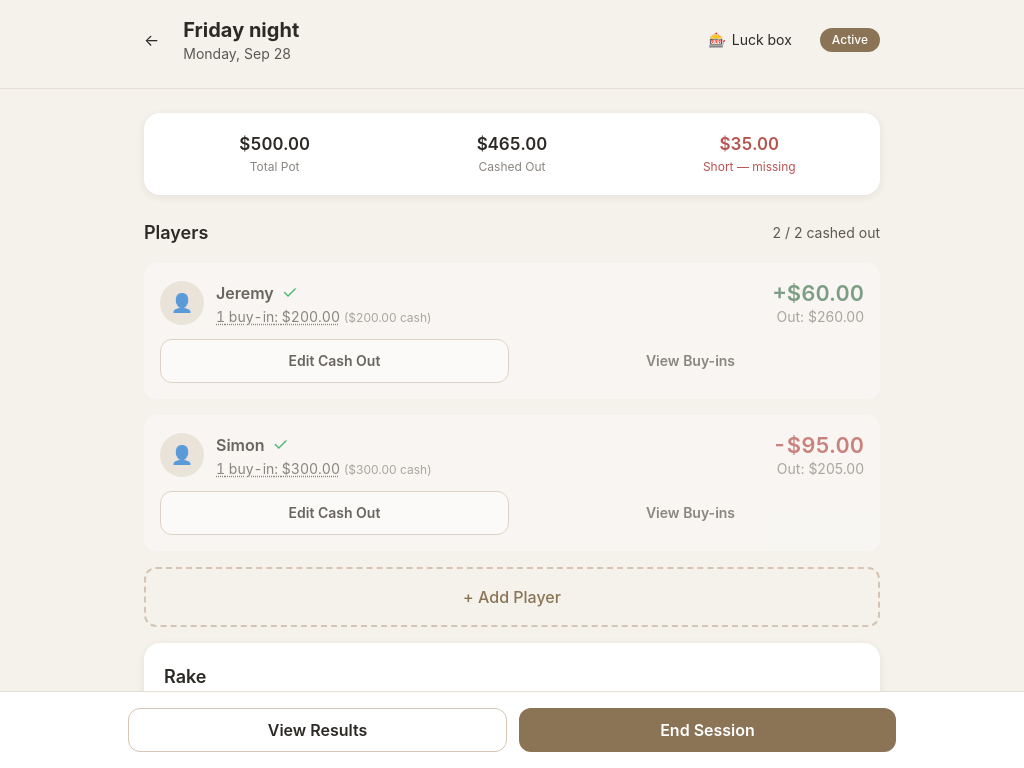
SessionDetail: saying when a typed name was redirected › adding a merged-away name says who it was added as
The width and height of the screenshot is (1024, 768).
Click the button "+ Add Player" at (512, 597), box [144,567,880,627]
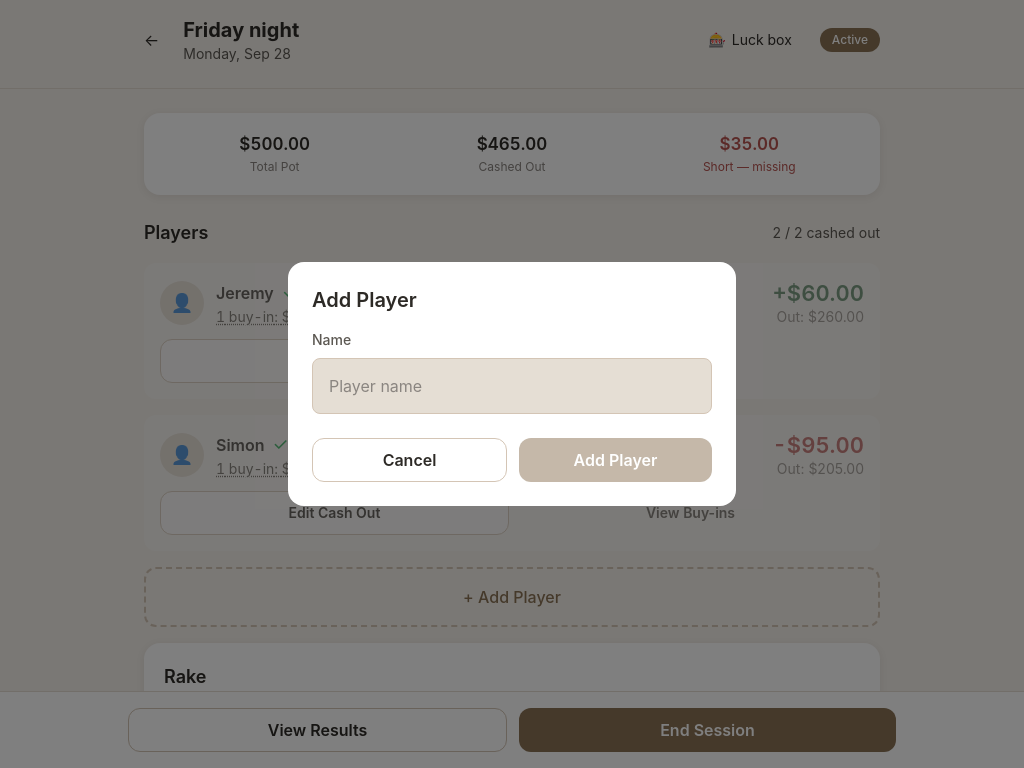
Type "Dre" into the field with placeholder "Player name" at (512, 386), box [312,358,712,414]
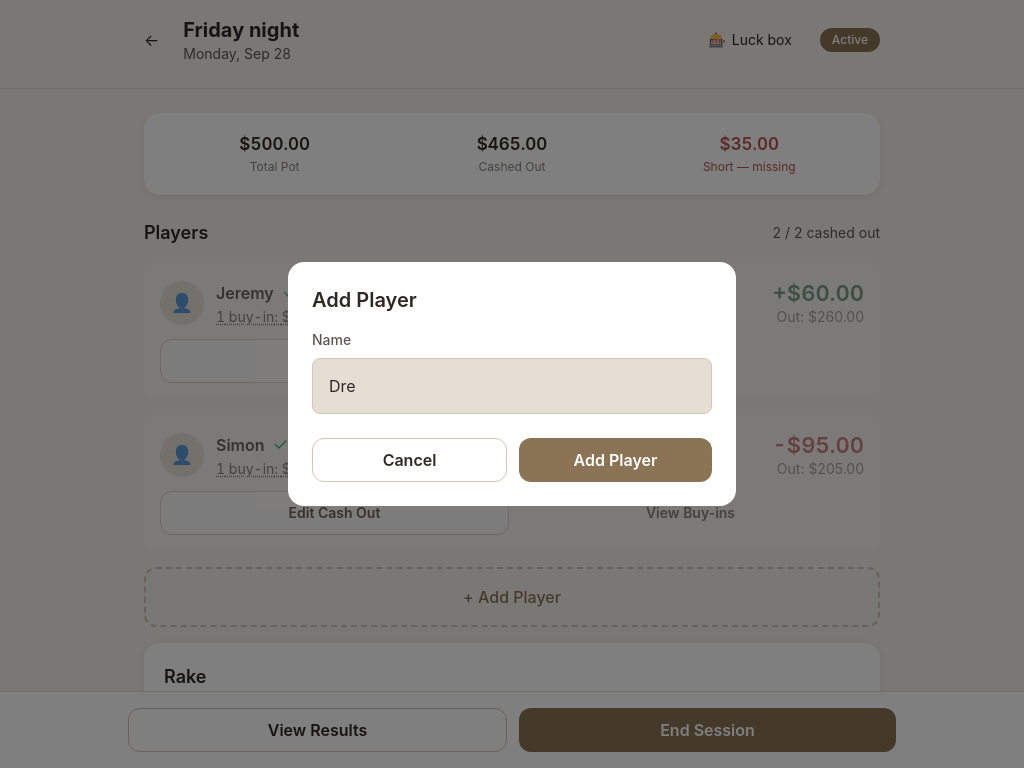
Click the button "Add Player" at (616, 460), box [519,438,712,482]
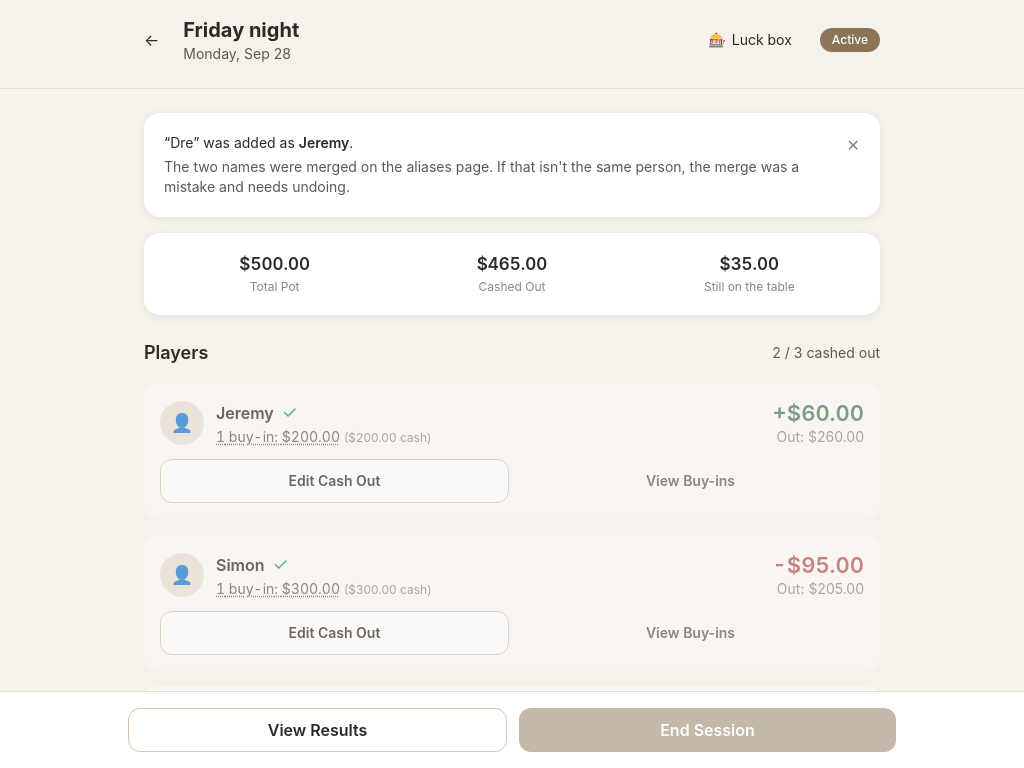
Result: the message shows "“Dre” was added as Jeremy" at [144,113,880,217]
Result: the message shows "merged on the aliases page" at [164,158,799,195]
